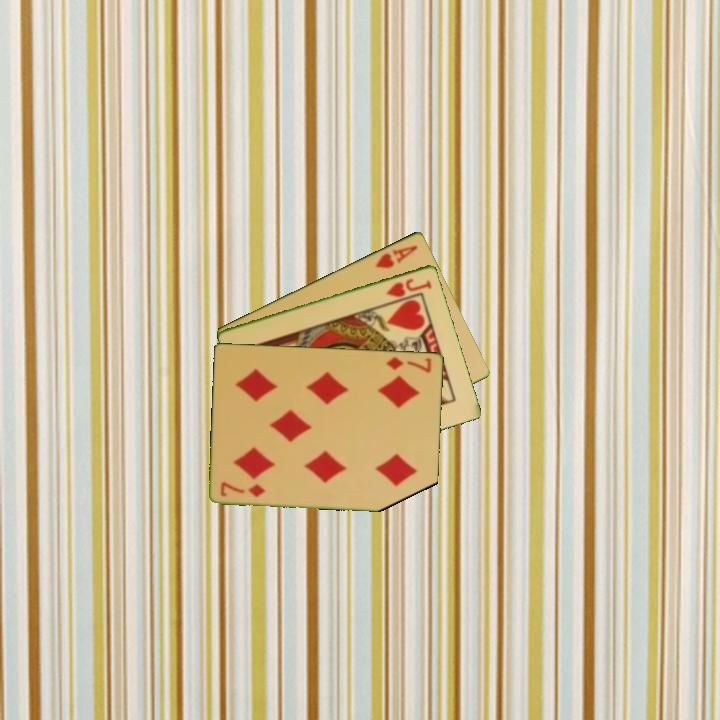7d: (383, 353, 434, 375), (217, 478, 268, 500)
Ah: (372, 241, 421, 271)
Jh: (383, 274, 435, 300)
